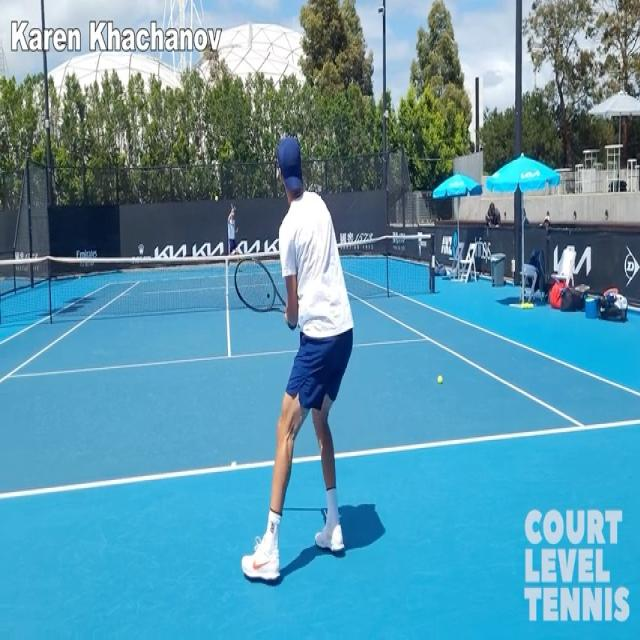backhand-ready: (232, 137, 360, 584)
